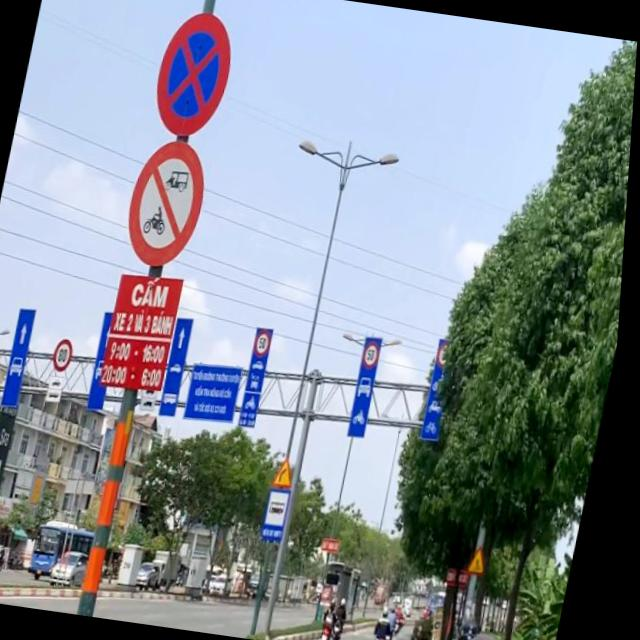Cam dung xe va do xe: (144, 3, 247, 148)
Nguoi di bo cat ngang: (473, 542, 498, 577)
Toc do toi da cho phep: (55, 338, 79, 372)
cho ngoat nguy hiem vong ben phai: (277, 454, 305, 492)
